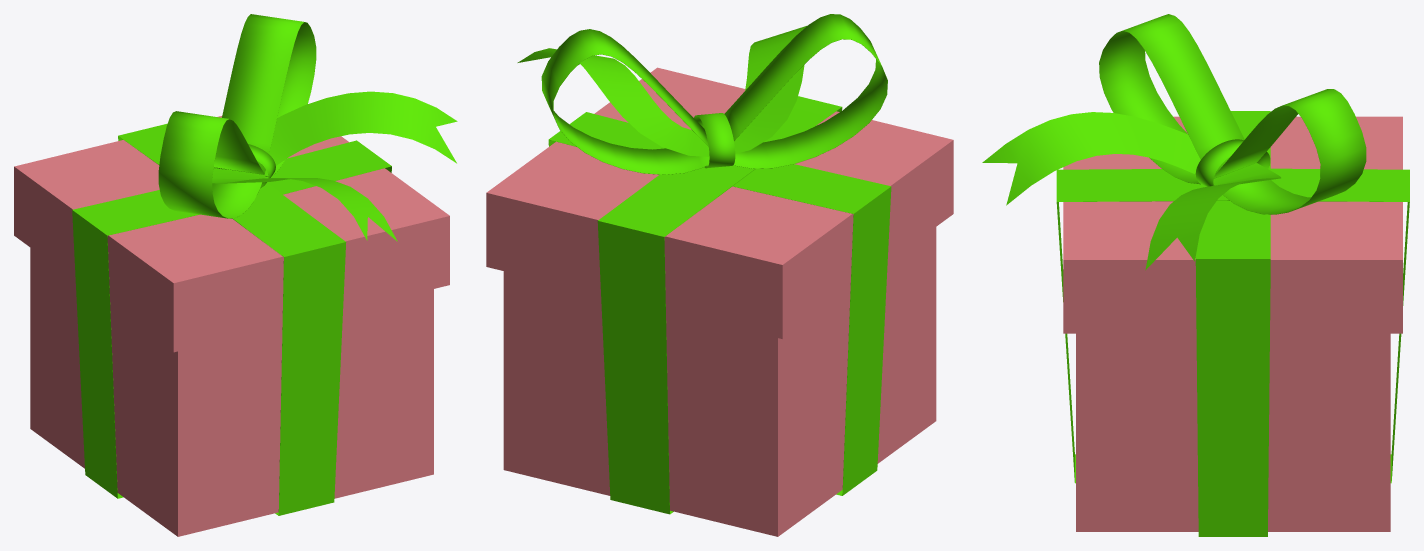
Rendered from giftbox.fbx.
3 views of the same model, side by side, from view 1: azimuth 30°, elevation 25°; view 2: azimuth 150°, elevation 25°; view 3: azimuth 270°, elevation 25° (orthographic). The views are drawn at different scales.
Parts seen in each view (by area): view 1: Box; view 2: Box; view 3: Box.
Boxes of the visible parts, x1,y1,x2,y2 form: Box: [14, 14, 457, 536]; Box: [486, 14, 953, 536]; Box: [982, 14, 1409, 536].
Size of the model in its own units: 273 by 291 by 272.
